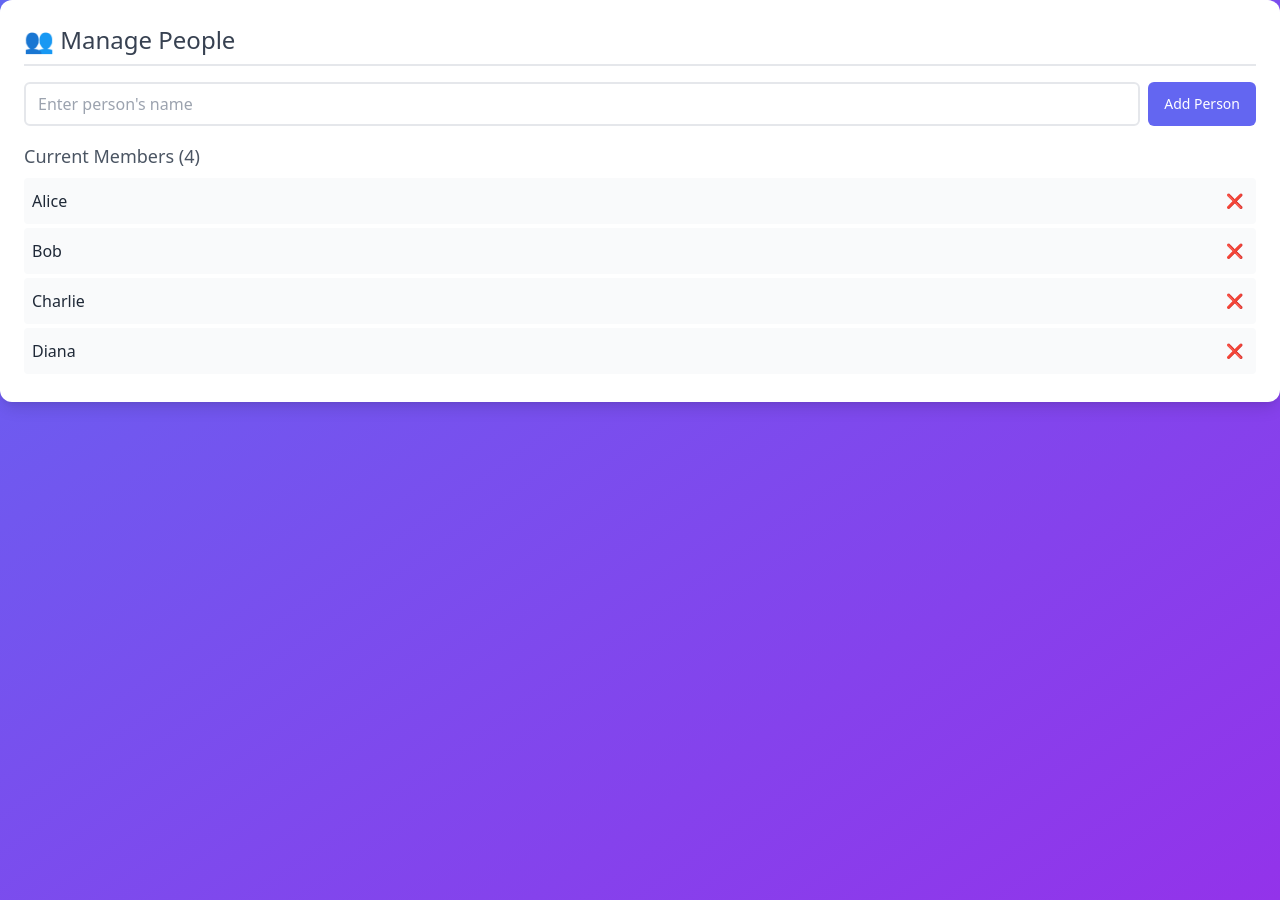
Scenario: PeopleManager › adds a new person
Type "Eve" into the field with placeholder "Enter person's name".
click(582, 104); type("Eve")  # box [24,82,1140,126]
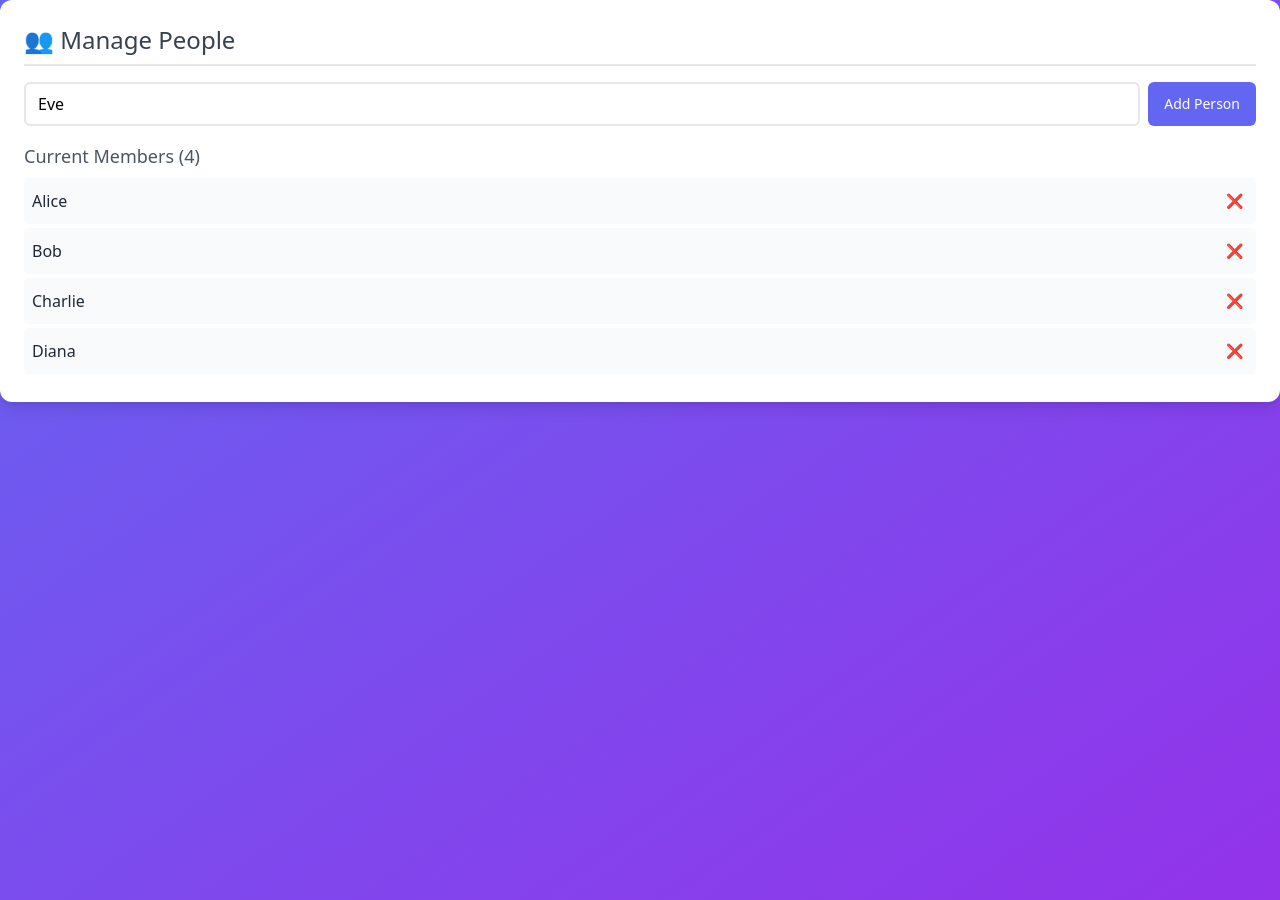
Click the button "Add Person".
click(1202, 104)  # box [1148,82,1256,126]
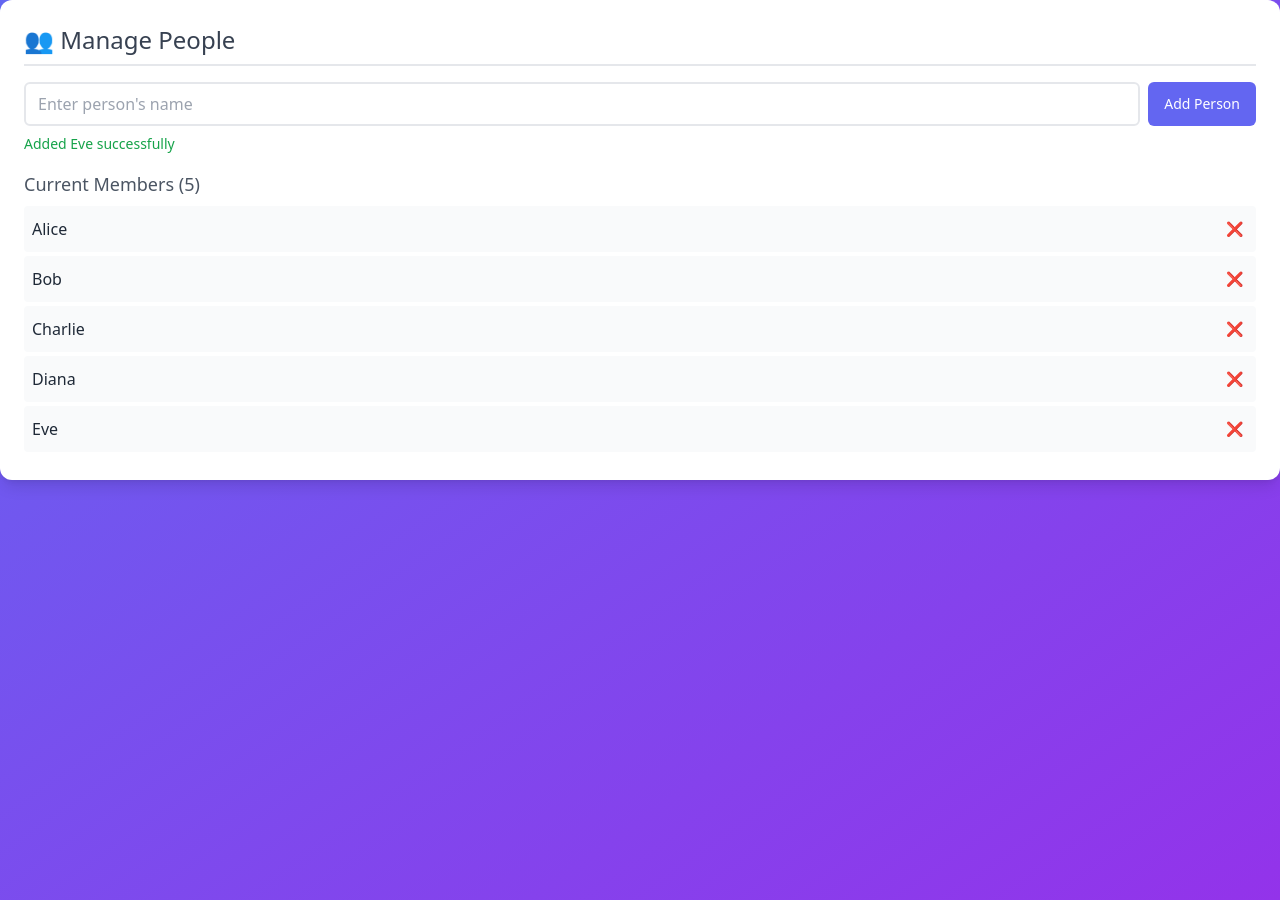
Now the text "Eve" is shown, box [32,417,58,441]
Now the text "Added Eve successfully" is shown, box [24,134,175,153]
